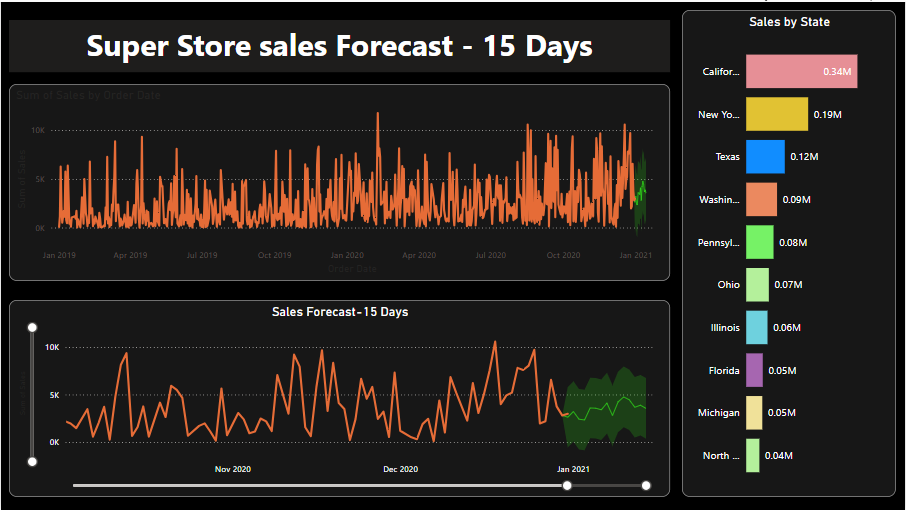

What the dashboard file says about the page in this screenshot:
{"tool":"powerbi","page":{"name":"Page 2","canvas":[1280,720],"ordinal":1},"visuals":[{"type":"lineChart","fields":{"Y":["Sum(SuperStore_Sales_Dataset.Sales)"],"Category":["SuperStore_Sales_Dataset.Order Date"]},"box":[11.3,116.2,936.9,279.2],"z":0},{"type":"lineChart","title":"Sales Forecast-15 Days","fields":{"Y":["Sum(SuperStore_Sales_Dataset.Sales)"],"Category":["SuperStore_Sales_Dataset.Order Date"]},"box":[11.3,422.4,936.9,279.2],"z":1000},{"type":"clusteredBarChart","title":"Sales by State","fields":{"Category":["SuperStore_Sales_Dataset.State"],"Y":["Sum(SuperStore_Sales_Dataset.Sales)"]},"box":[965.2,11.3,303.3,690.2],"z":2000},{"type":"textbox","box":[11.3,25.5,936.9,73.7],"z":3000}]}

Visuals, with their boxes in screenshot pixels (x1, y1, x2, y2), scaled from the page's 1280x720 canvas onto the 906x510 screenshot:
lineChart - Sum(SuperStore_Sales_Dataset.Sales) x SuperStore_Sales_Dataset.Order Date: bbox(8, 82, 671, 280)
"Sales Forecast-15 Days" lineChart: bbox(8, 299, 671, 497)
"Sales by State" clusteredBarChart: bbox(683, 8, 898, 497)
textbox: bbox(8, 18, 671, 70)
